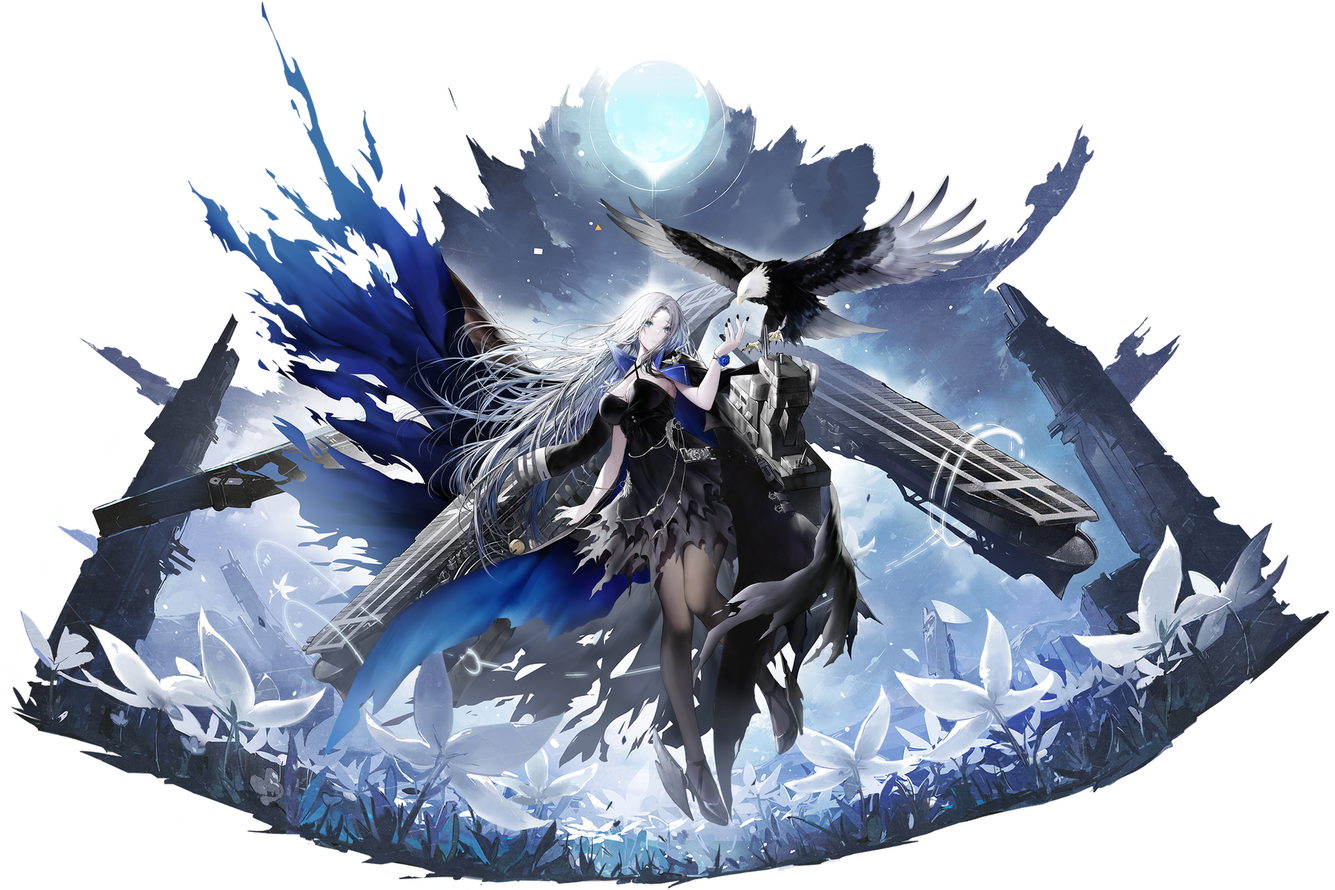person: (507, 264, 875, 846)
